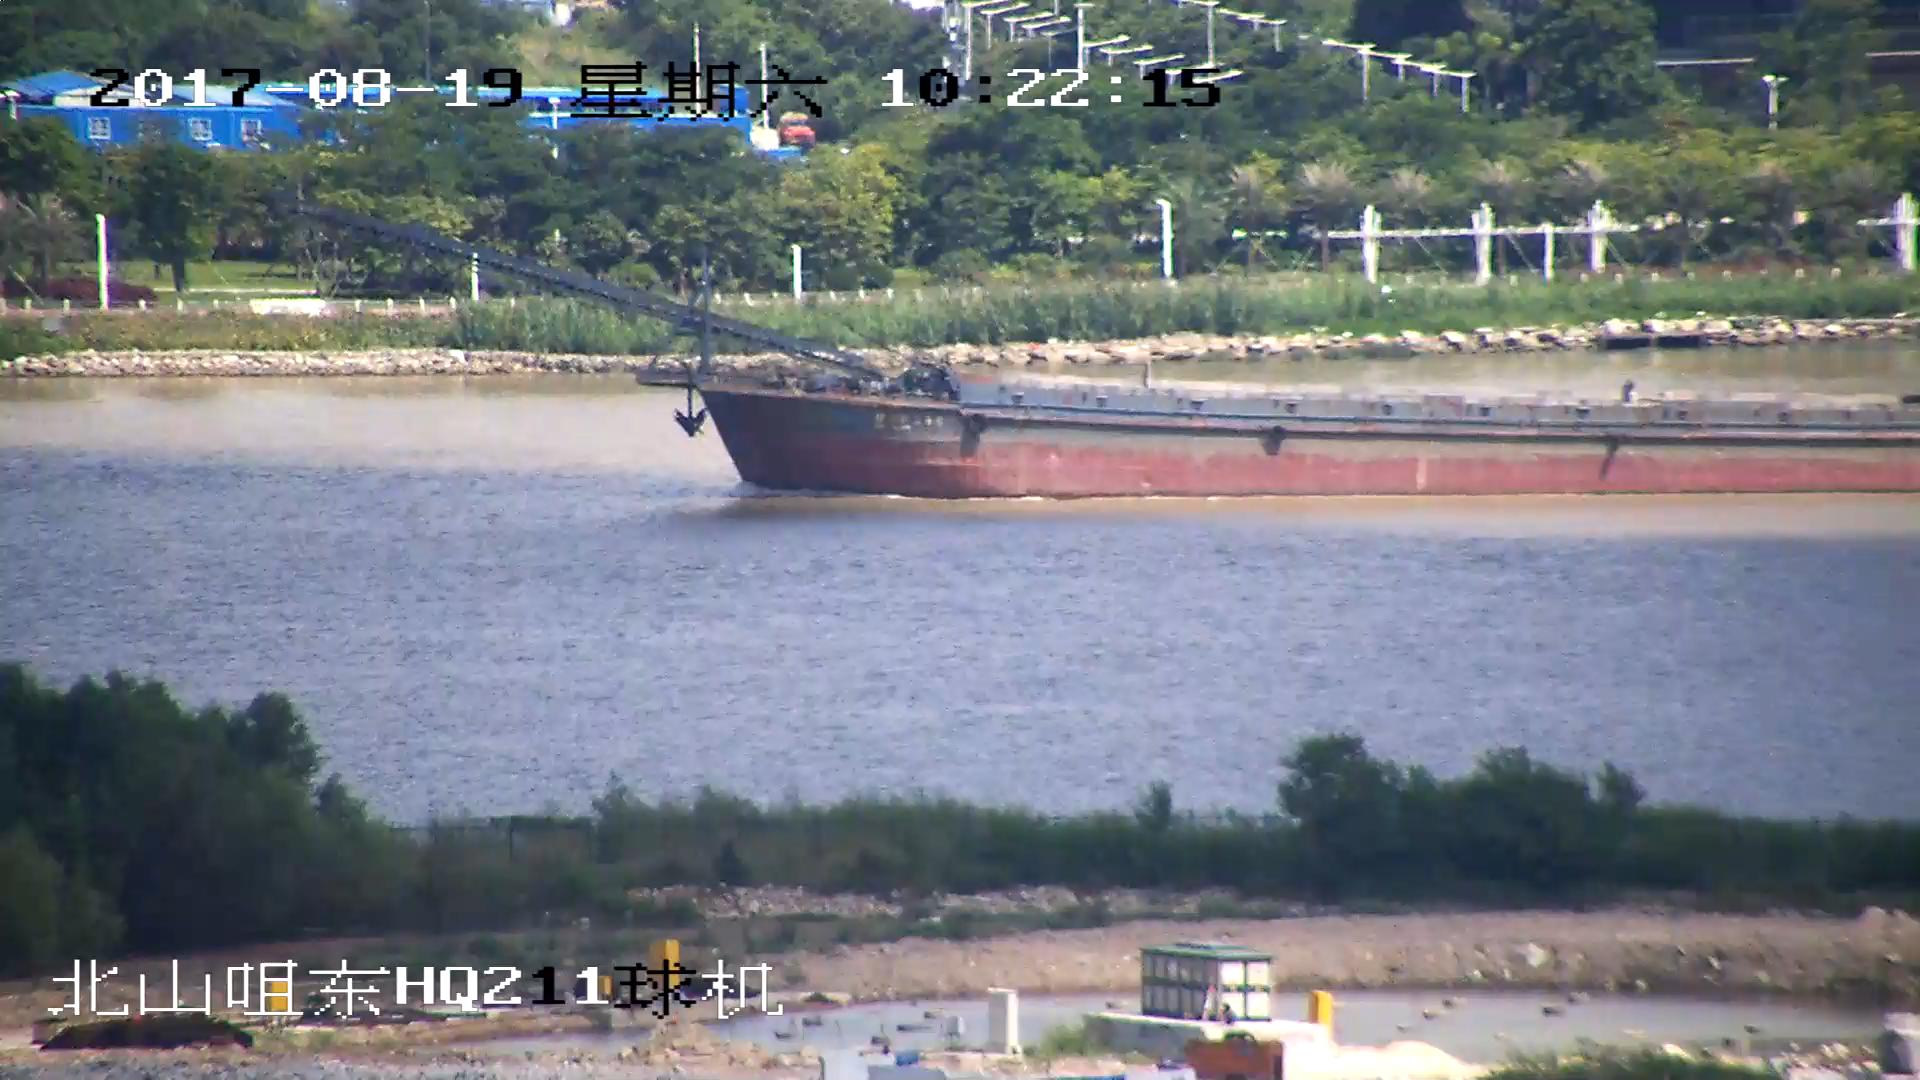bulk cargo carrier: (320, 219, 1920, 497)
